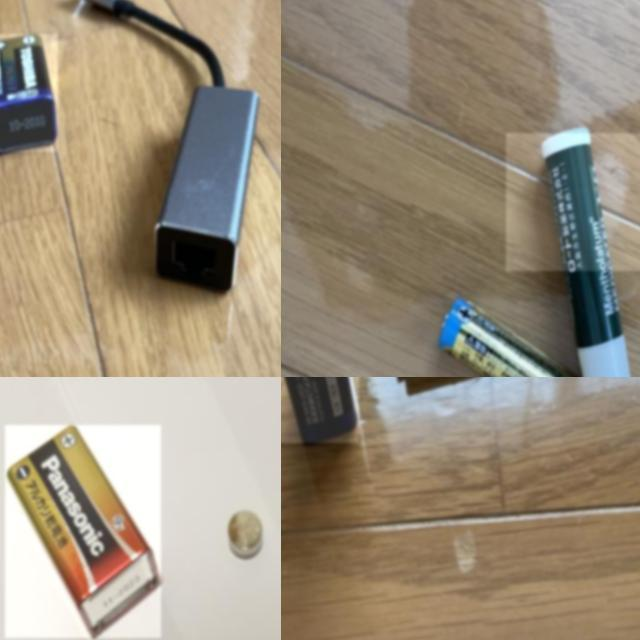9V: (5, 425, 162, 638), (0, 34, 58, 152)
